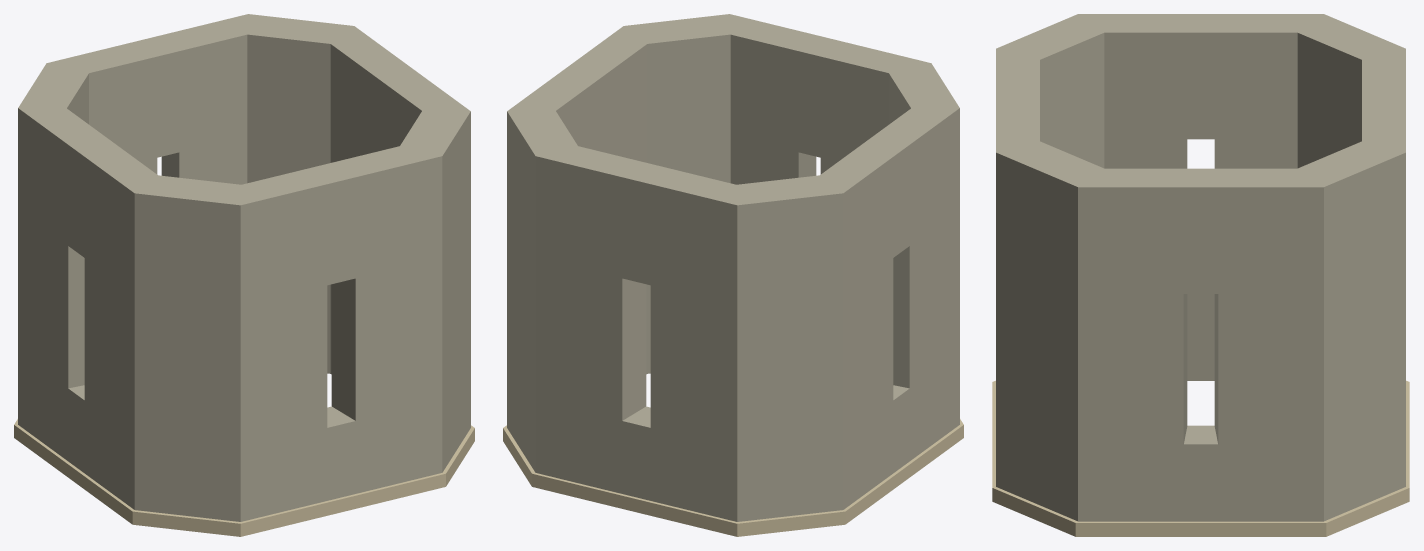
Rendered from arrow_tower_drum.glb.
The picture shows the model from 3 angles, left to right: view 1: azimuth 30°, elevation 25°; view 2: azimuth 150°, elevation 25°; view 3: azimuth 270°, elevation 25°; orthographic projection. The views are drawn at different scales.
Visible parts, largest first — view 1: Arrow tower drum; view 2: Arrow tower drum; view 3: Arrow tower drum.
Boxes of the visible parts, x1,y1,x2,y2 form: Arrow tower drum: [14, 14, 474, 536]; Arrow tower drum: [503, 14, 963, 536]; Arrow tower drum: [992, 14, 1409, 536].
Bounding box in the file's own units: 2.04 × 1.88 × 2.04.
